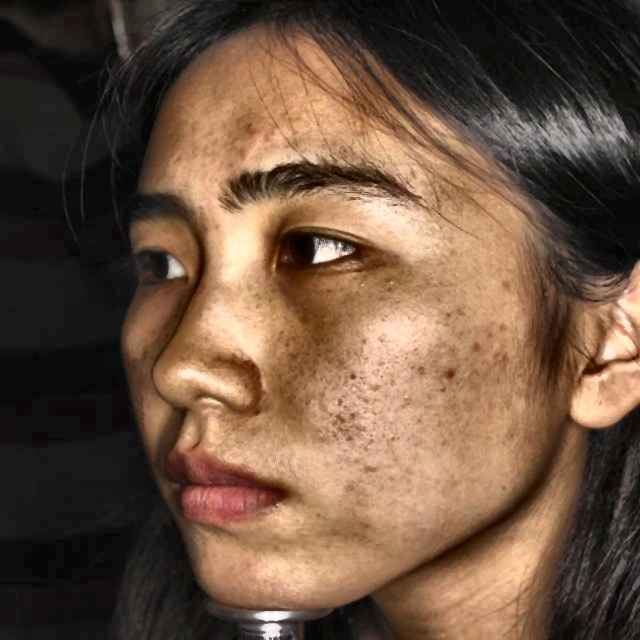comedone: (243, 120, 283, 147), (458, 336, 493, 364)
